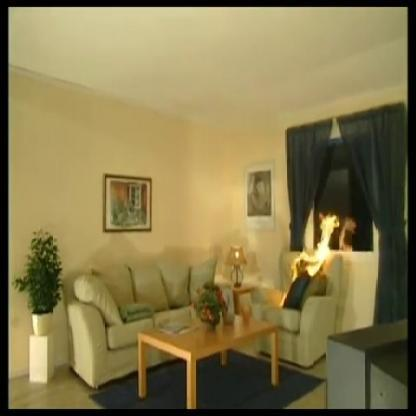fire: (282, 212, 342, 287)
